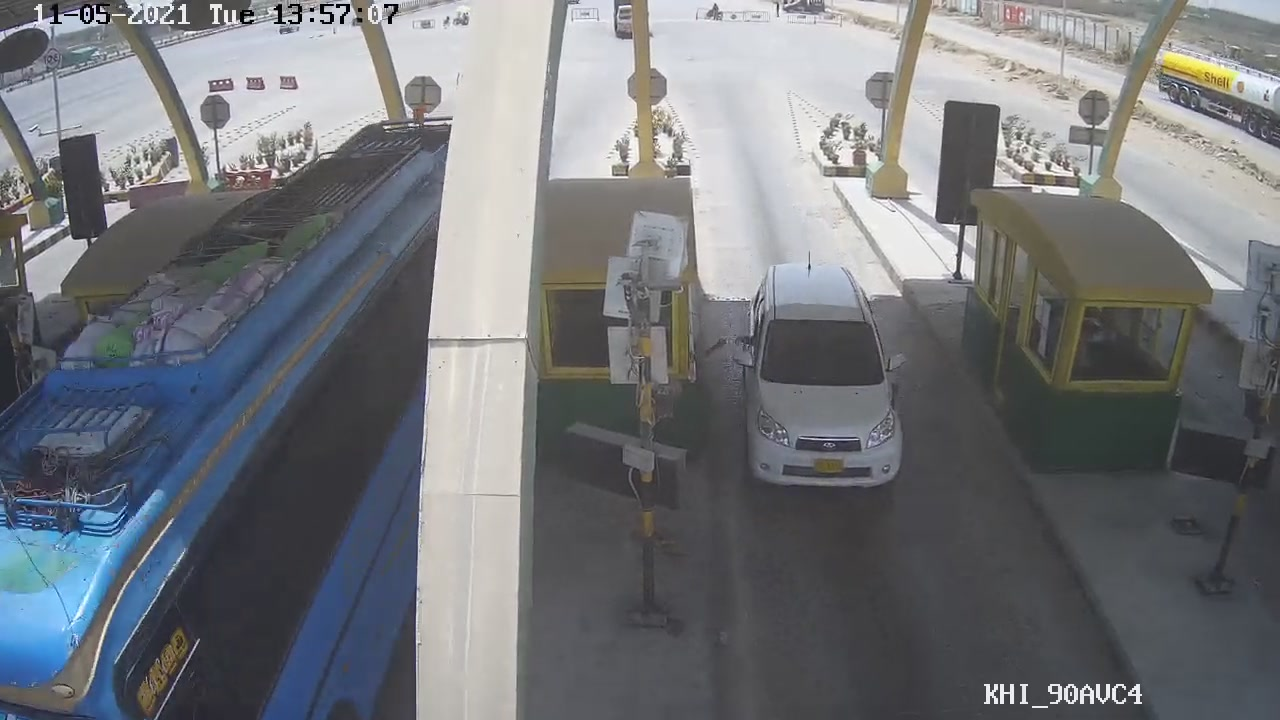F1: (730, 250, 925, 506)
